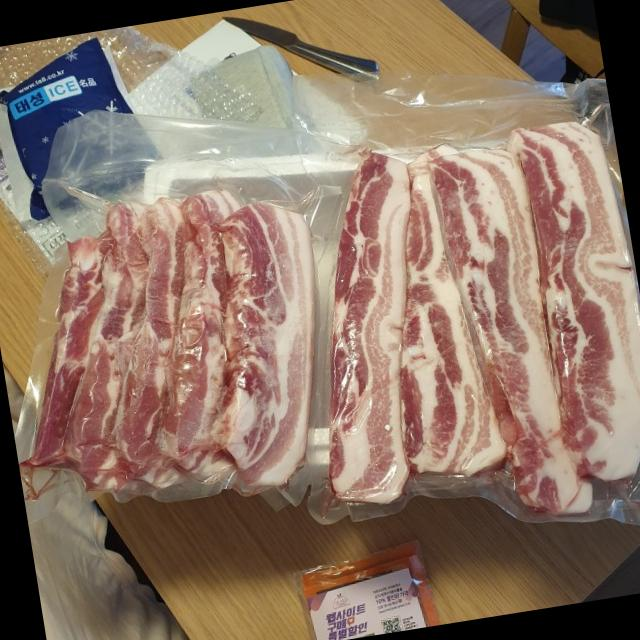pork: (0, 80, 640, 603)
